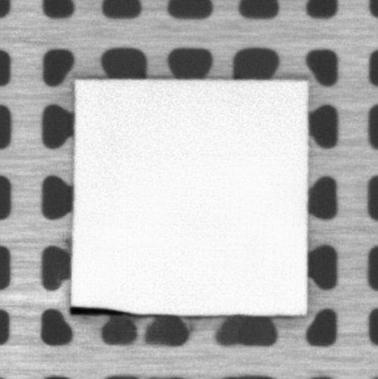DIE_BROKEN: (67, 302, 134, 317)
